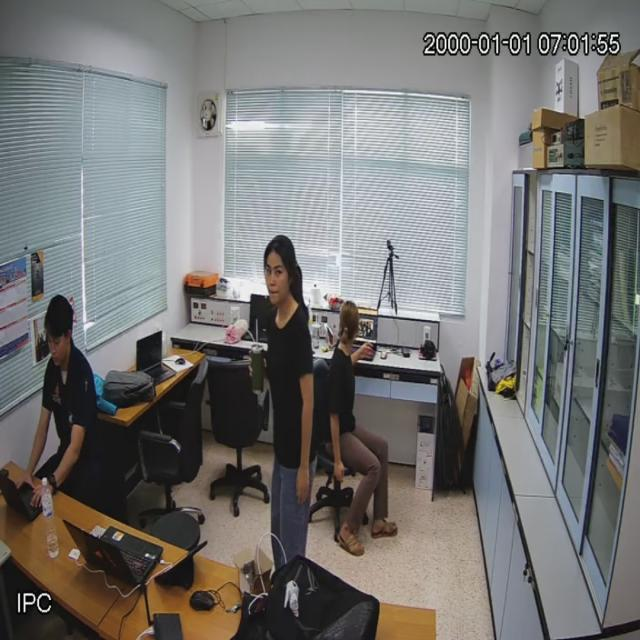normal: (256, 227, 333, 564), (324, 300, 402, 562), (33, 290, 103, 519)
